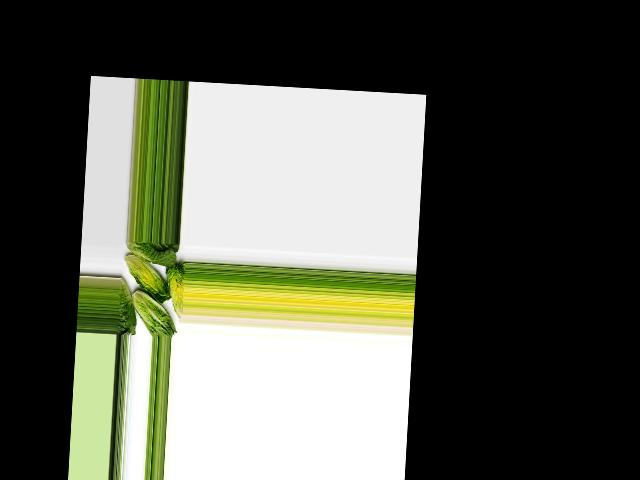lettuce: (126, 240, 179, 268)
